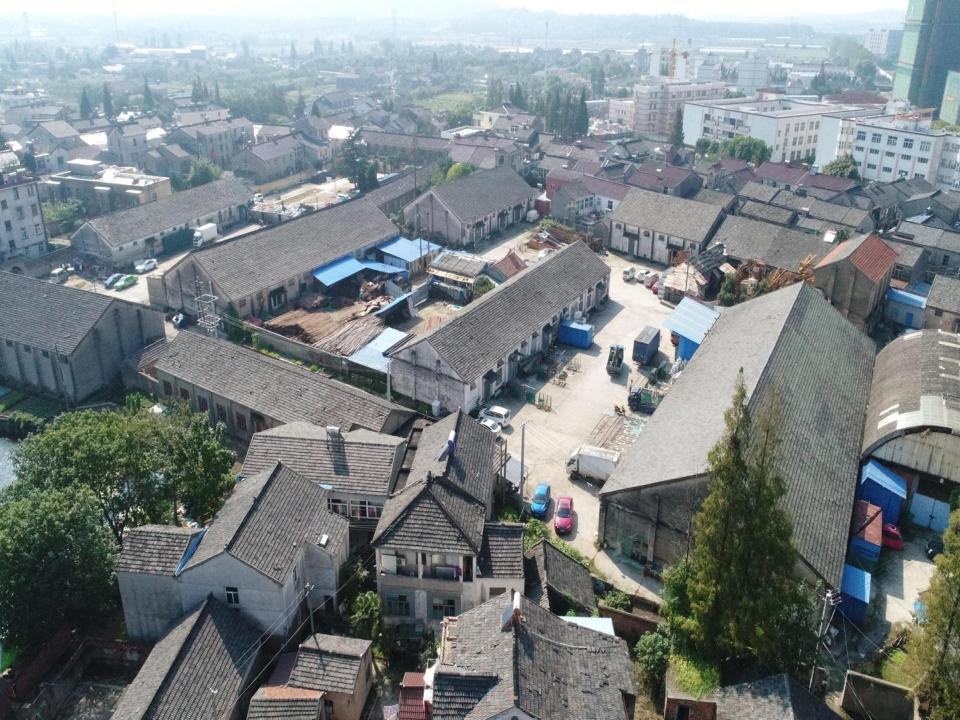car: (923, 533, 959, 563), (876, 522, 904, 553), (554, 495, 574, 535), (530, 482, 551, 519), (469, 418, 502, 440), (478, 405, 510, 427), (113, 274, 139, 290), (136, 258, 158, 274), (104, 273, 124, 289), (652, 278, 666, 294), (637, 270, 650, 283), (250, 192, 264, 204)
truck: (669, 296, 703, 345), (628, 387, 674, 414), (632, 325, 662, 366), (192, 223, 218, 249), (606, 344, 626, 376)
van: (643, 272, 660, 287), (622, 266, 635, 282), (526, 209, 540, 223)
